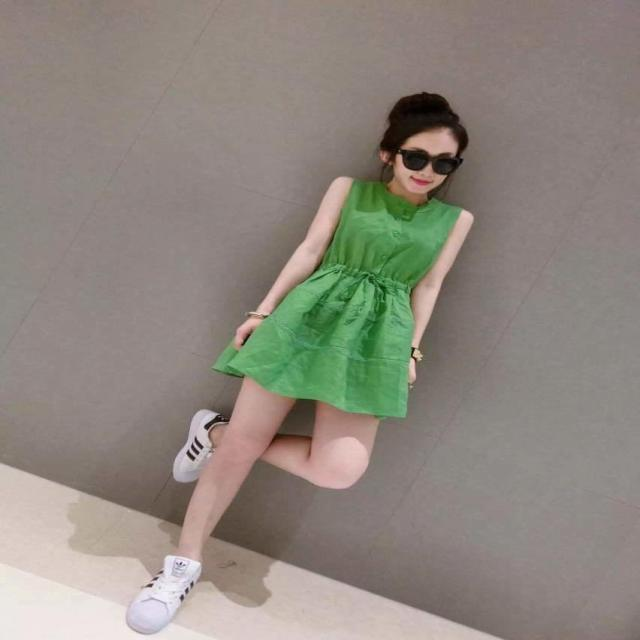vest dress: (214, 181, 464, 417)
